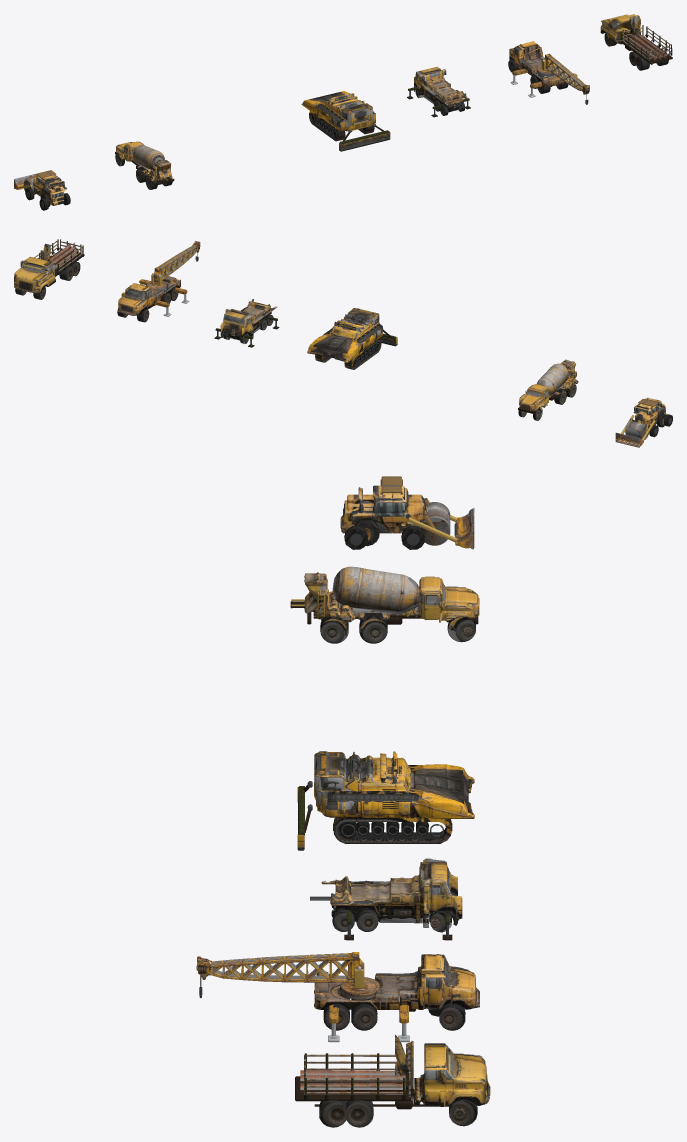
The model's file is machines-2.glb.
3 views of the same model, one above another, from view 1: azimuth 30°, elevation 25°; view 2: azimuth 150°, elevation 25°; view 3: azimuth 270°, elevation 25° (orthographic). The views are drawn at different scales.
Parts seen in each view (by area): view 1: paver rigid assembly, pipe-truck rigid assembly, crane-truck rigid assembly, drill-rig rigid assembly, mixer-truck rigid assembly, crane-truck:boom:lattice-photo-trace, paver:screed rigid assembly, loader:rear-frame rigid assembly, mixer-truck:drum rigid assembly, roller rigid assembly; view 2: paver rigid assembly, pipe-truck rigid assembly, crane-truck rigid assembly, drill-rig rigid assembly, mixer-truck rigid assembly, crane-truck:boom:lattice-photo-trace, mixer-truck:drum rigid assembly, roller rigid assembly; view 3: paver rigid assembly, pipe-truck rigid assembly, crane-truck rigid assembly, drill-rig rigid assembly, mixer-truck rigid assembly, crane-truck:boom:lattice-photo-trace, mixer-truck:drum rigid assembly, roller rigid assembly, loader:rear-frame rigid assembly, loader:front-frame rigid assembly.
Part boxes in pixels (x1=…): paver rigid assembly: x1=301, y1=91, x2=375, y2=141; pipe-truck rigid assembly: x1=600, y1=14, x2=672, y2=70; crane-truck rigid assembly: x1=508, y1=41, x2=577, y2=97; drill-rig rigid assembly: x1=407, y1=66, x2=470, y2=117; mixer-truck rigid assembly: x1=115, y1=141, x2=174, y2=189; crane-truck:boom:lattice-photo-trace: x1=544, y1=53, x2=589, y2=94; paver:screed rigid assembly: x1=339, y1=124, x2=390, y2=151; loader:rear-frame rigid assembly: x1=25, y1=175, x2=66, y2=205; mixer-truck:drum rigid assembly: x1=133, y1=145, x2=164, y2=169; roller rigid assembly: x1=26, y1=170, x2=64, y2=206; paver rigid assembly: x1=307, y1=308, x2=382, y2=369; pipe-truck rigid assembly: x1=14, y1=239, x2=84, y2=299; crane-truck rigid assembly: x1=117, y1=273, x2=189, y2=322; drill-rig rigid assembly: x1=214, y1=299, x2=279, y2=347; mixer-truck rigid assembly: x1=518, y1=359, x2=578, y2=420; crane-truck:boom:lattice-photo-trace: x1=153, y1=241, x2=200, y2=282; mixer-truck:drum rigid assembly: x1=537, y1=363, x2=568, y2=395; roller rigid assembly: x1=629, y1=398, x2=665, y2=432; paver rigid assembly: x1=314, y1=751, x2=474, y2=1016; pipe-truck rigid assembly: x1=295, y1=1034, x2=490, y2=1127; crane-truck rigid assembly: x1=314, y1=954, x2=479, y2=1042; drill-rig rigid assembly: x1=321, y1=858, x2=462, y2=940; mixer-truck rigid assembly: x1=304, y1=572, x2=479, y2=643; crane-truck:boom:lattice-photo-trace: x1=196, y1=952, x2=363, y2=982; mixer-truck:drum rigid assembly: x1=332, y1=566, x2=419, y2=613; roller rigid assembly: x1=347, y1=476, x2=435, y2=546; loader:rear-frame rigid assembly: x1=340, y1=485, x2=425, y2=549; loader:front-frame rigid assembly: x1=344, y1=485, x2=420, y2=549.
Bounding box in the file's own units: 69.07 × 4.2 × 14.18.
61 materials, 52 textured.
